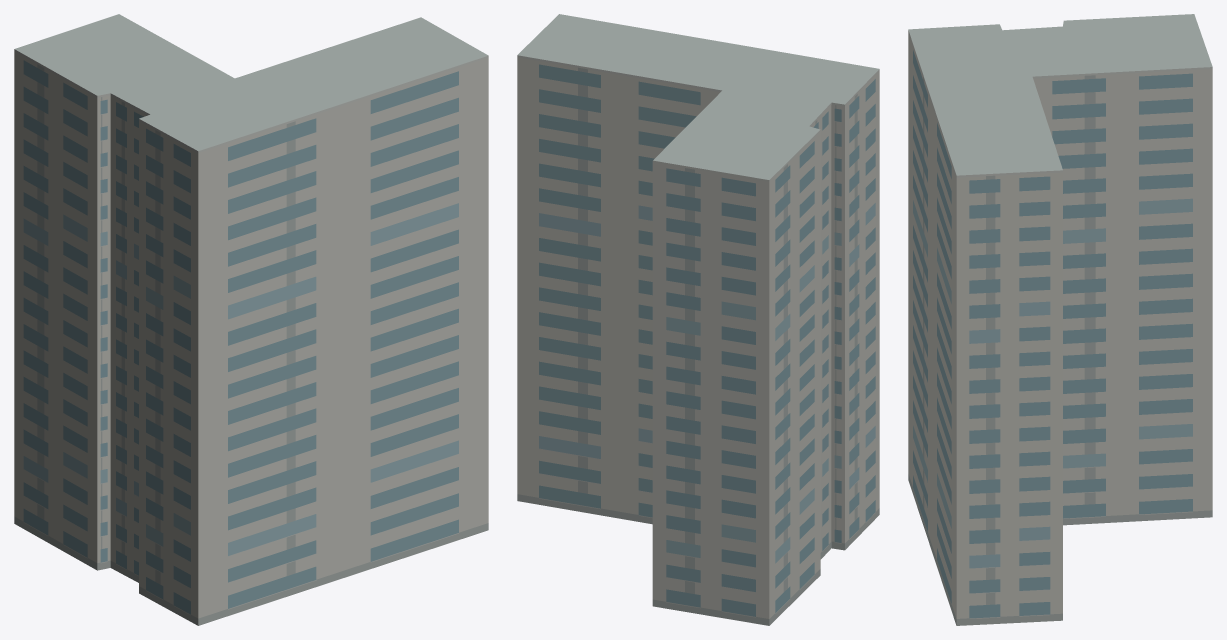
Rendered from survey-upis-32681286.glb.
The picture shows the model from 3 angles, left to right: view 1: azimuth 30°, elevation 25°; view 2: azimuth 150°, elevation 25°; view 3: azimuth 270°, elevation 25°; orthographic projection. The views are drawn at different scales.
Parts seen in each view (by area): view 1: survey-upis-32681286.tmp; view 2: survey-upis-32681286.tmp; view 3: survey-upis-32681286.tmp.
Boxes of the visible parts, x1,y1,x2,y2 form: survey-upis-32681286.tmp: [14, 14, 488, 625]; survey-upis-32681286.tmp: [517, 14, 879, 625]; survey-upis-32681286.tmp: [908, 14, 1212, 625].
Bounding box in the file's own units: 42.26 × 54.9 × 33.65.
